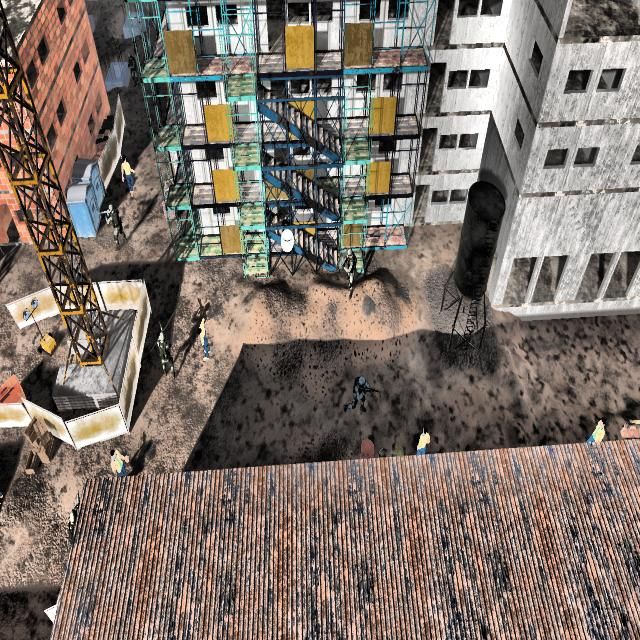bad: (349, 362, 378, 422), (152, 320, 177, 384), (104, 200, 130, 253), (62, 500, 83, 537)
good: (197, 310, 214, 370), (118, 152, 138, 202), (104, 441, 132, 476), (584, 412, 606, 445), (412, 425, 433, 456)
